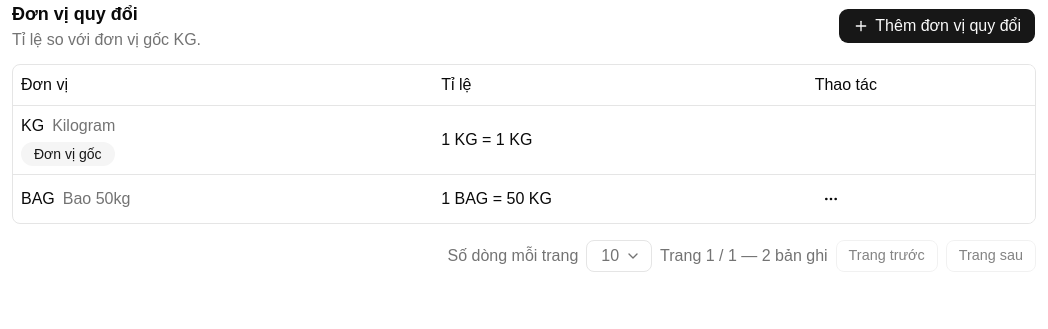
it: MaterialConversionUnits › dòng đơn vị gốc không có thao tác; dòng khác có Sửa tỉ lệ / Gỡ
Check: the button "Thêm đơn vị quy đổi" is shown, box [838,8,1036,44]
Click the button named "Thao tác với đơn vị BAG" at (831, 198), box [815,182,847,214]
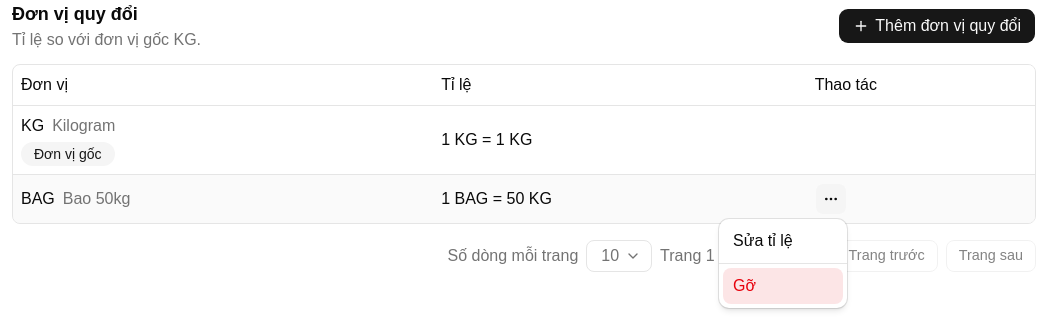
Check: the menu item "Sửa tỉ lệ" is shown, box [733,232,793,249]
Check: the menu item "Gỡ" is shown, box [723,268,843,304]
